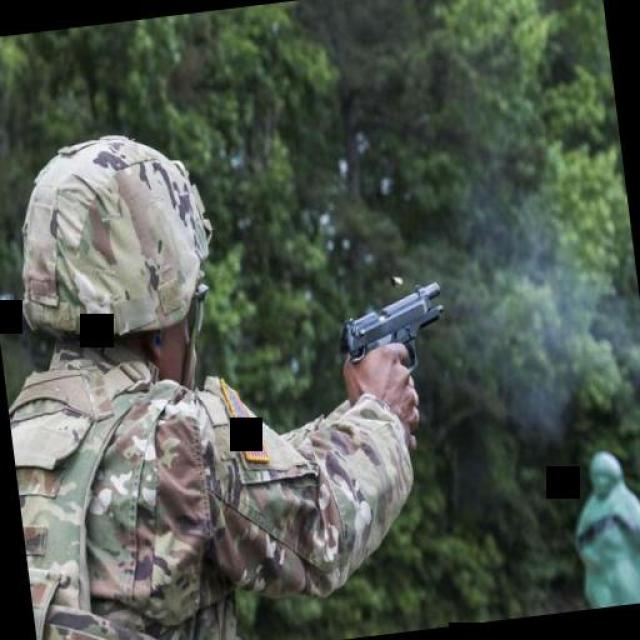gun: (331, 275, 450, 390)
